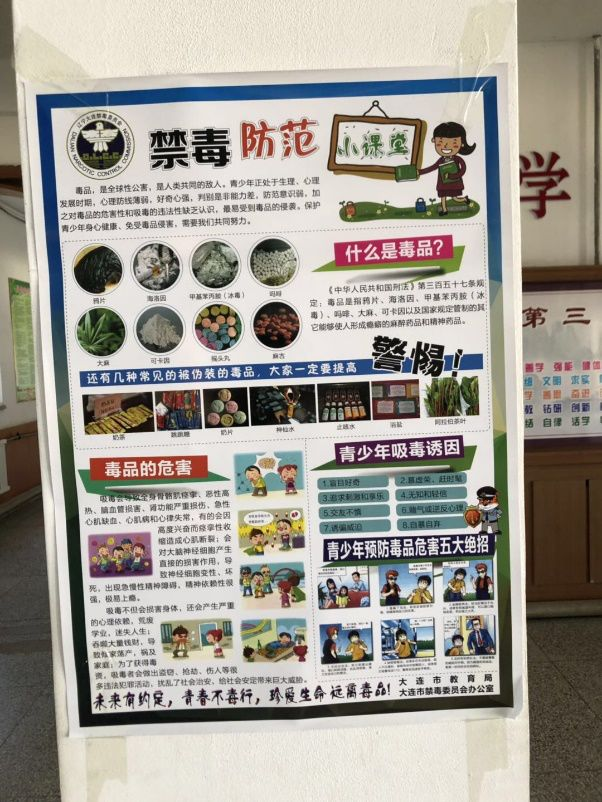bill: (20, 77, 521, 728)
